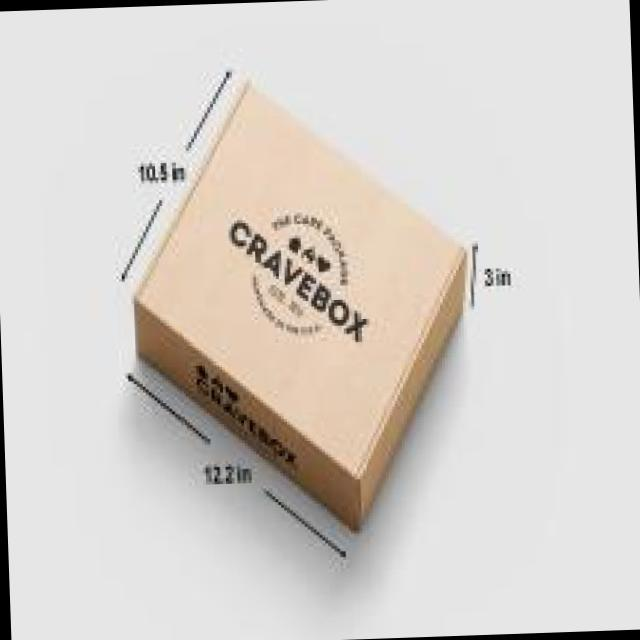box: (132, 82, 467, 532), (133, 84, 467, 531)
